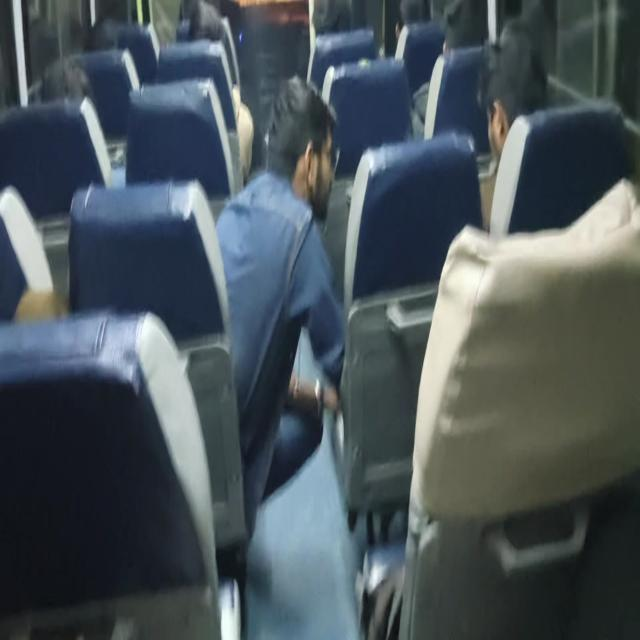person: (268, 81, 339, 221), (476, 53, 541, 137), (42, 63, 105, 124), (438, 0, 498, 61), (188, 14, 242, 51), (84, 15, 126, 60)
